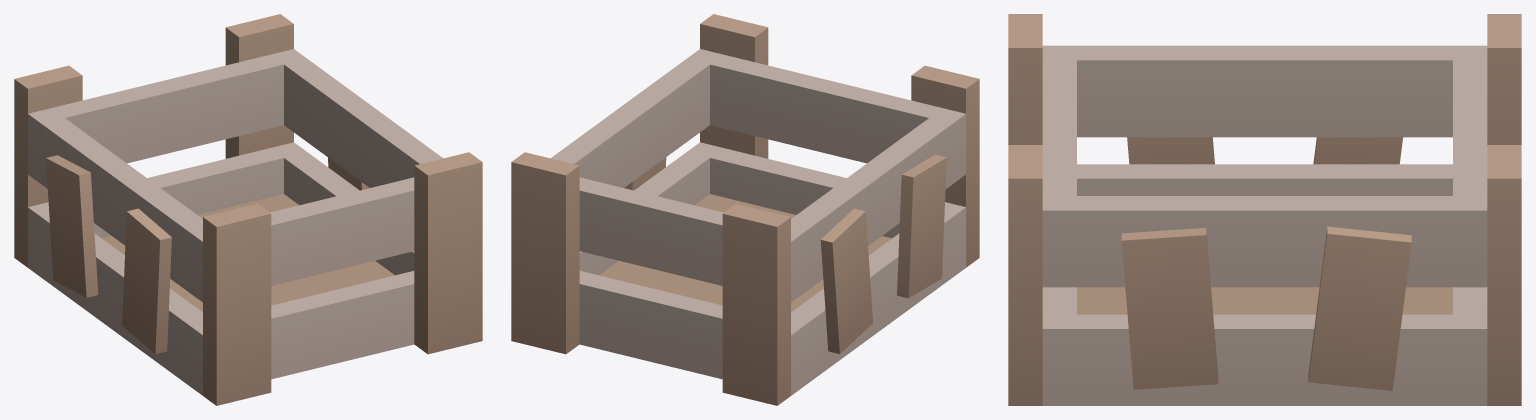
Rendered from crate-wooden (%secret).glb.
3 views of the same model, side by side, from view 1: azimuth 30°, elevation 25°; view 2: azimuth 150°, elevation 25°; view 3: azimuth 270°, elevation 25° (orthographic). The views are drawn at different scales.
Visible parts, largest first — view 1: crate-wooden (%secret); view 2: crate-wooden (%secret); view 3: crate-wooden (%secret).
Part boxes in pixels (box(x1,y1,x2,y2)): crate-wooden (%secret): box(14, 14, 482, 405); crate-wooden (%secret): box(511, 14, 979, 405); crate-wooden (%secret): box(1008, 14, 1521, 405).
Size of the model in its own units: 0.37 by 0.2185 by 0.4478.
